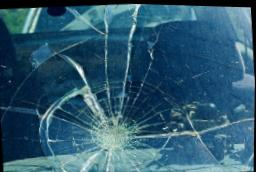Windshield: (0, 3, 255, 172)
